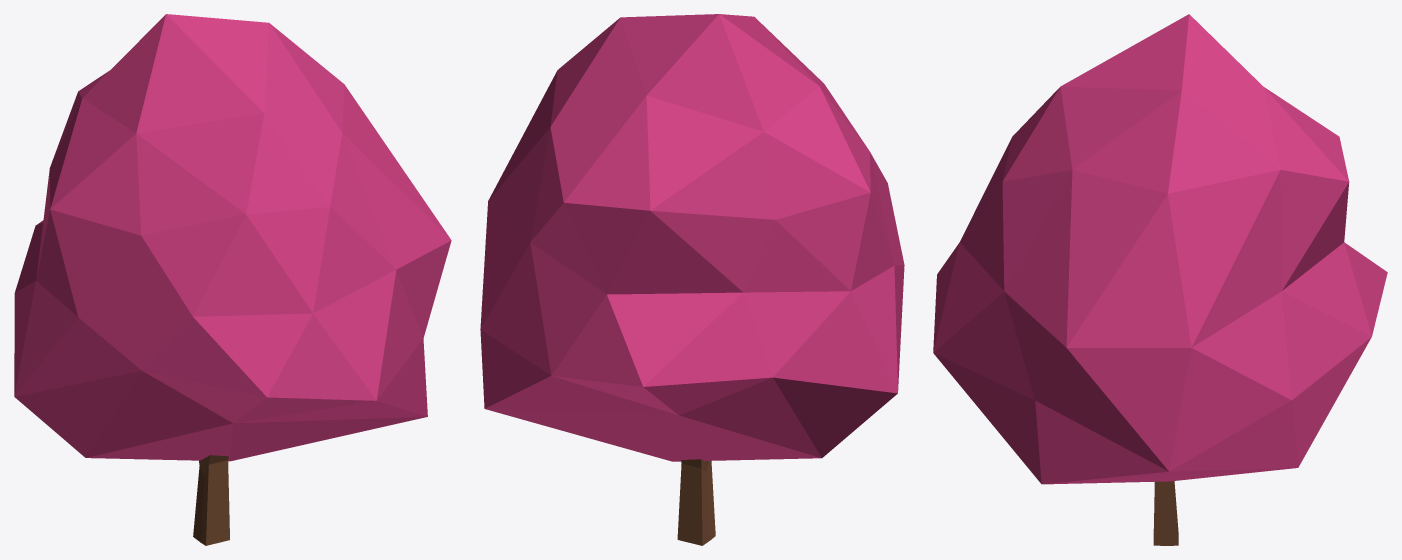
File: Tree_57_Pink.fbx
3 renders of one model, left to right at view 1: azimuth 30°, elevation 25°; view 2: azimuth 150°, elevation 25°; view 3: azimuth 270°, elevation 25°, orthographic. The views are drawn at different scales.
Parts seen in each view (by area): view 1: Tree_57_Pink_Part_1, Tree_57_Pink_Part_2; view 2: Tree_57_Pink_Part_1, Tree_57_Pink_Part_2; view 3: Tree_57_Pink_Part_1, Tree_57_Pink_Part_2.
Part boxes in pixels (bbox=[...]): Tree_57_Pink_Part_1: bbox=[14, 14, 451, 461]; Tree_57_Pink_Part_2: bbox=[193, 455, 229, 545]; Tree_57_Pink_Part_1: bbox=[480, 14, 904, 461]; Tree_57_Pink_Part_2: bbox=[677, 459, 715, 545]; Tree_57_Pink_Part_1: bbox=[933, 14, 1387, 484]; Tree_57_Pink_Part_2: bbox=[1153, 481, 1178, 545].
Size of the model in its own units: 643 by 801 by 647.
